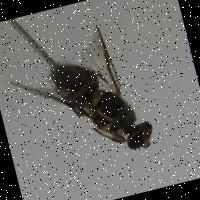Oriental-fruit-fly: (4, 9, 170, 182)
